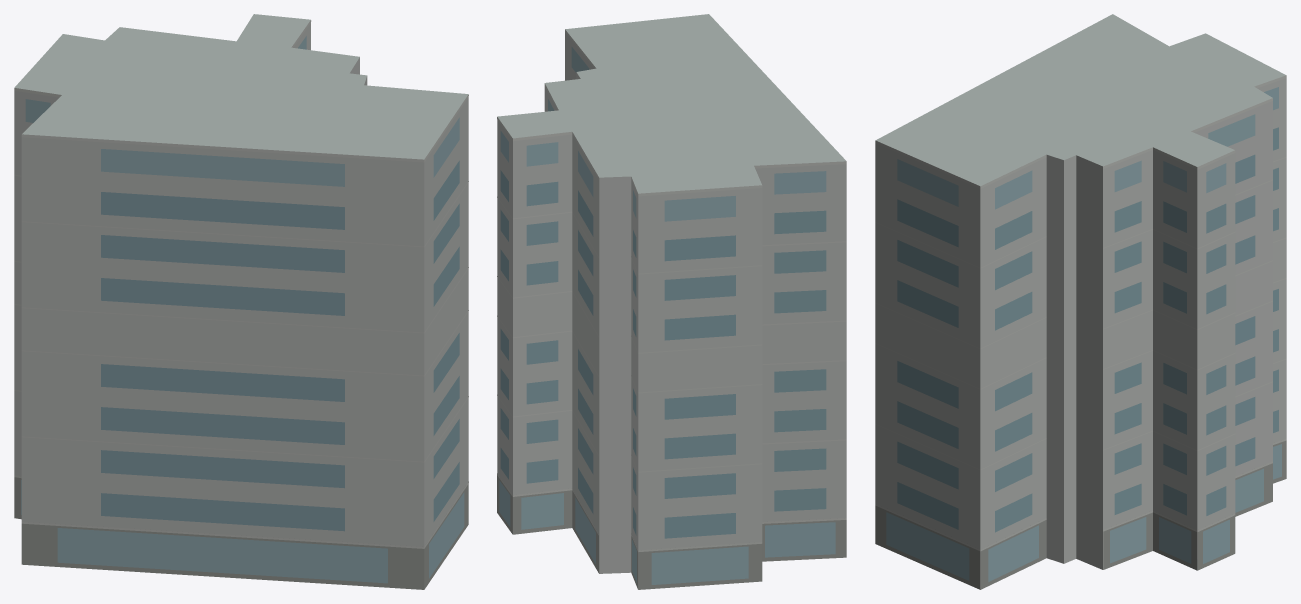
File: survey-upis-32650221.glb
3 views of the same model, side by side, from view 1: azimuth 30°, elevation 25°; view 2: azimuth 150°, elevation 25°; view 3: azimuth 270°, elevation 25° (orthographic). The views are drawn at different scales.
Parts seen in each view (by area): view 1: survey-upis-32650221.tmp; view 2: survey-upis-32650221.tmp; view 3: survey-upis-32650221.tmp.
Part boxes in pixels (x1=…): survey-upis-32650221.tmp: x1=14, y1=14, x2=468, y2=589; survey-upis-32650221.tmp: x1=497, y1=14, x2=846, y2=589; survey-upis-32650221.tmp: x1=875, y1=14, x2=1286, y2=589.
Bounding box in the file's own units: 32.06 × 35 × 32.32.
